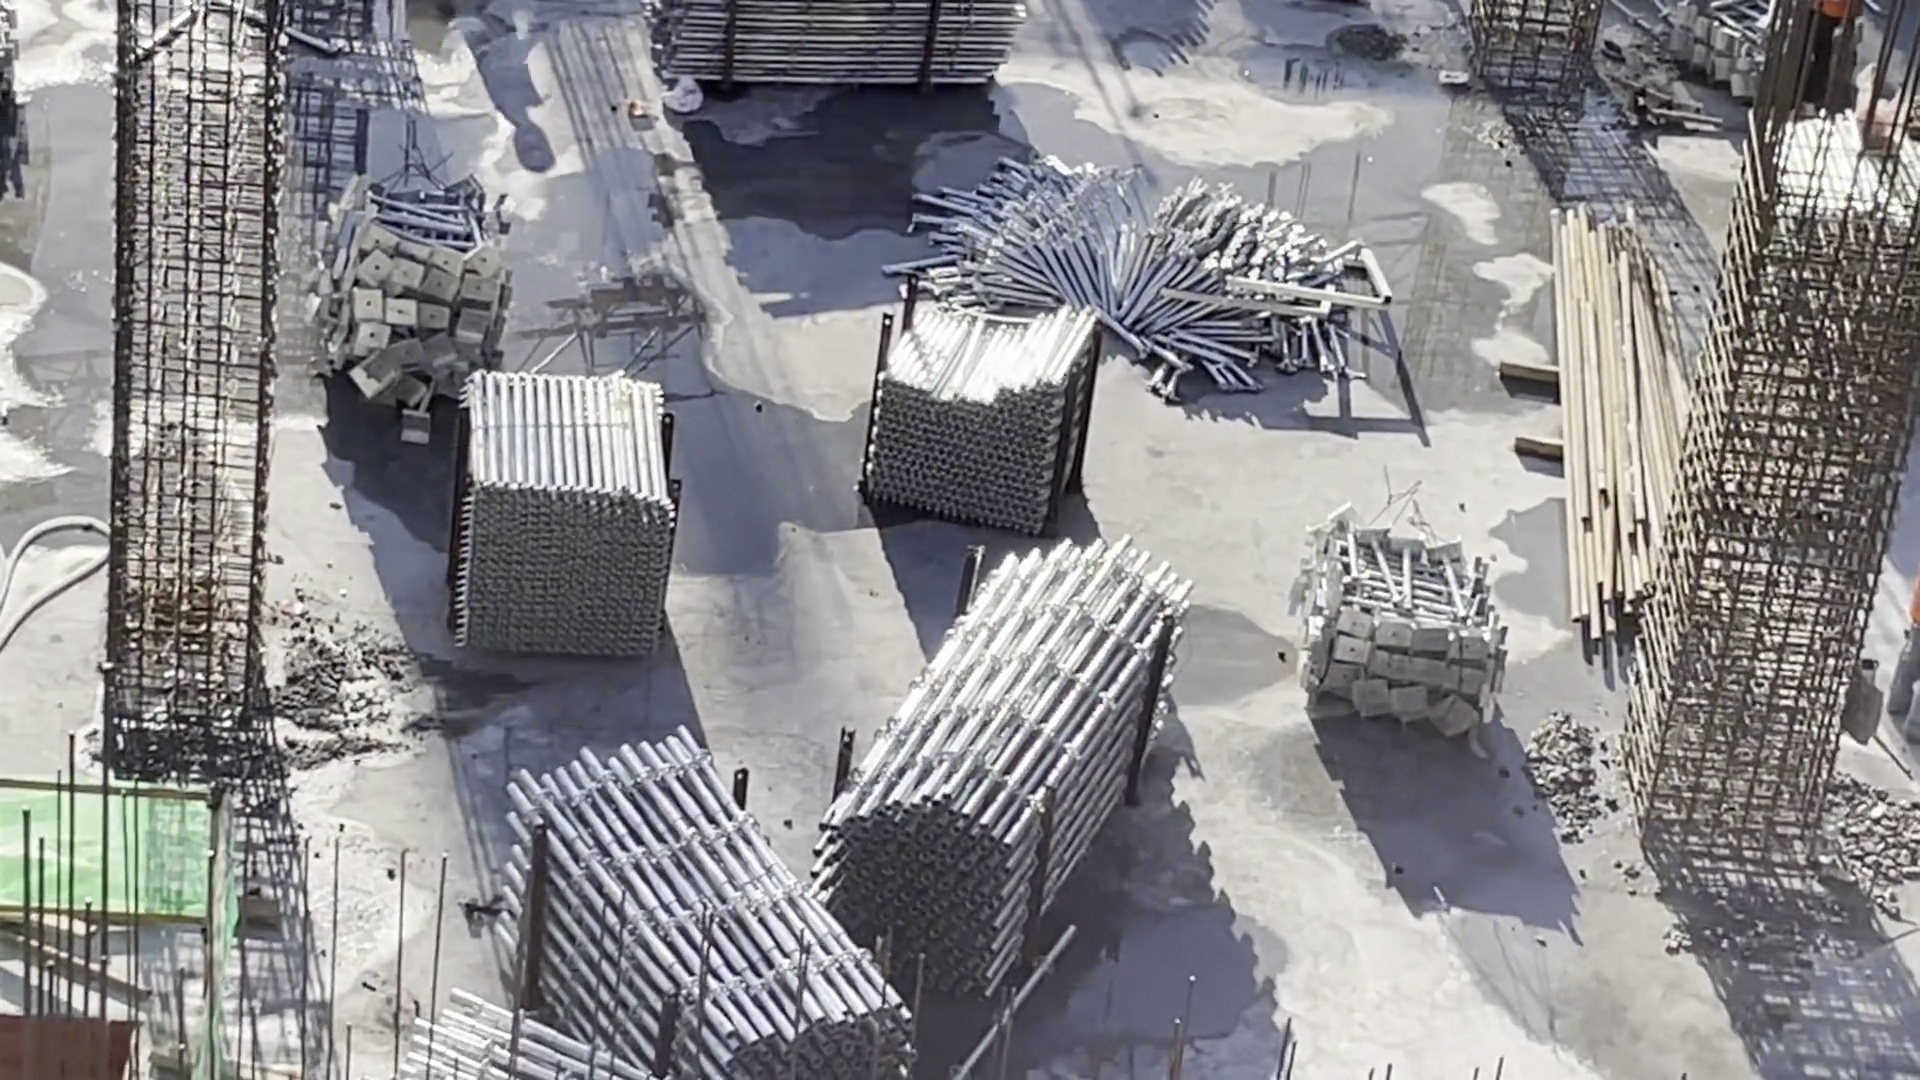person: (1874, 595, 1920, 753)
scaffold: (496, 740, 933, 1071), (813, 560, 1154, 966), (916, 150, 1381, 385), (458, 356, 691, 645), (305, 185, 537, 418), (871, 299, 1097, 524), (1301, 517, 1499, 747), (642, 3, 1038, 103), (416, 992, 643, 1080)
